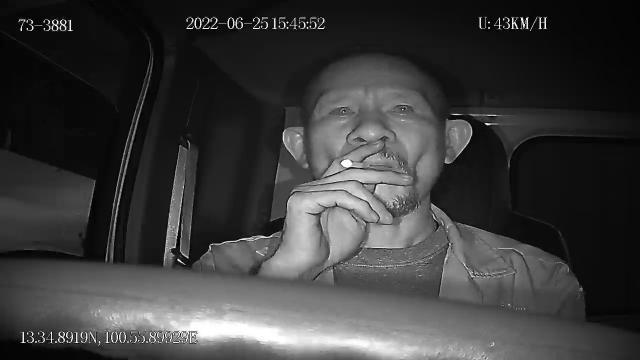SafeDriving: (319, 96, 361, 128), (382, 93, 422, 124)
Smoking: (340, 158, 372, 168)
